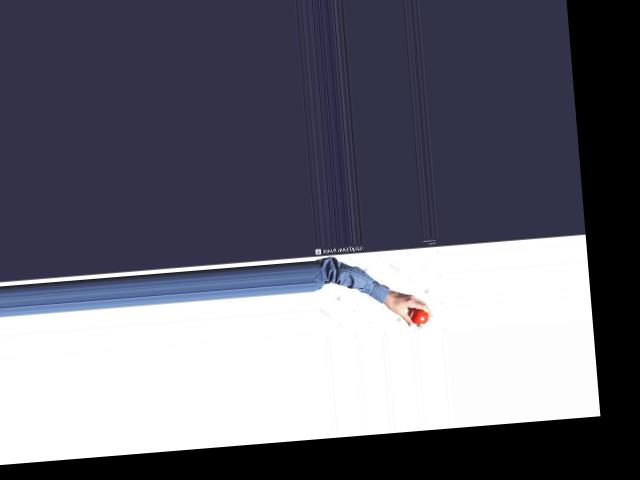tomato: (411, 309, 429, 324)
